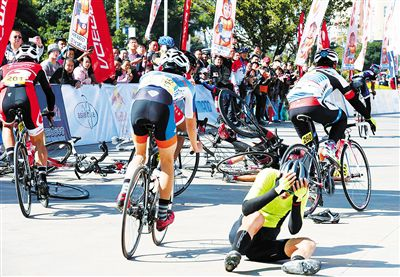10+: (1, 26, 391, 180)
down: (223, 158, 321, 273)
